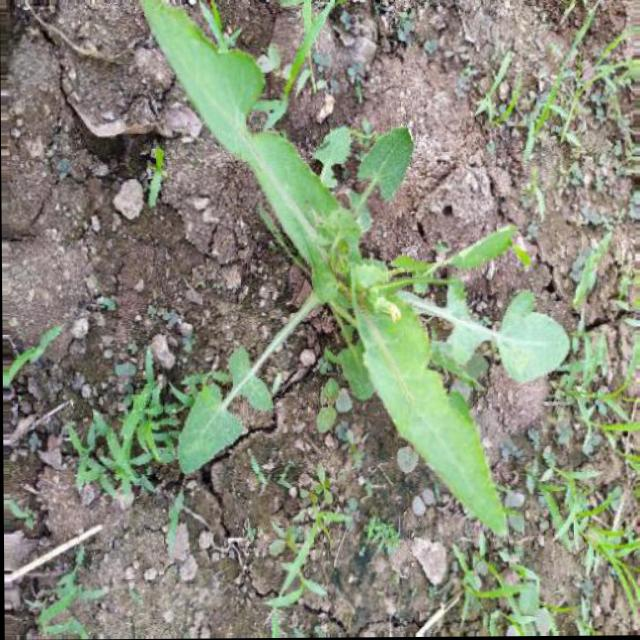weed: (120, 0, 573, 546)
